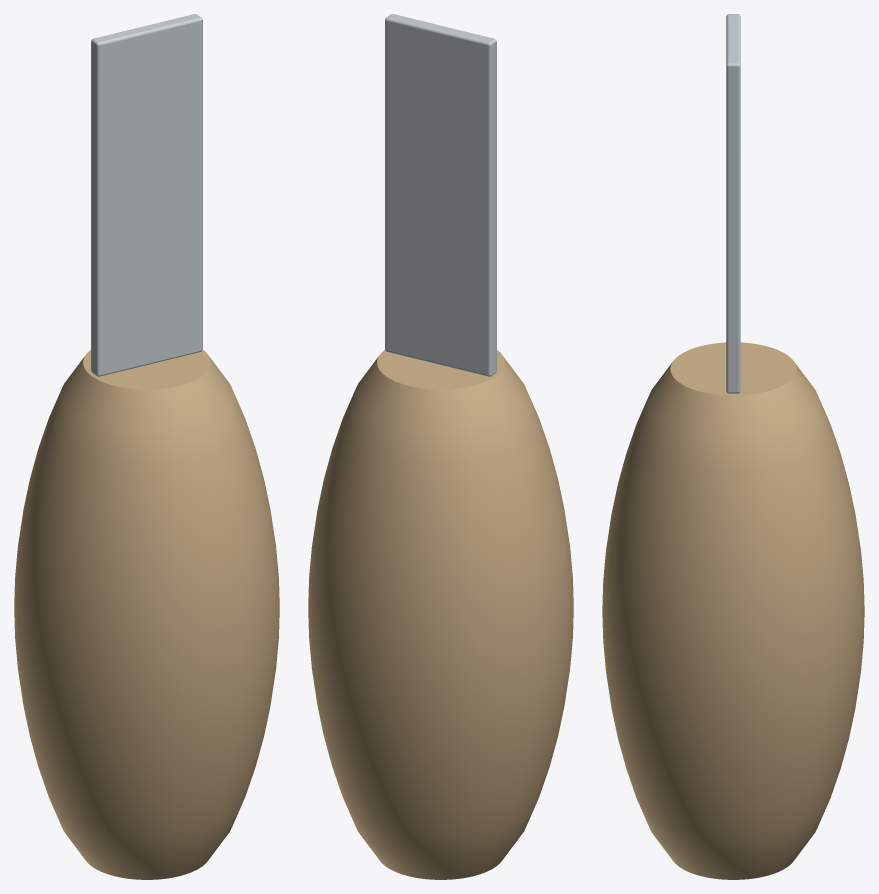
Rendered from bookbinding-and-paper-mill-cutting-knife-a4da5414__30571.glb.
The picture shows the model from 3 angles, left to right: view 1: azimuth 30°, elevation 25°; view 2: azimuth 150°, elevation 25°; view 3: azimuth 270°, elevation 25°; orthographic projection.
Parts seen in each view (by area): view 1: cutting-knife; view 2: cutting-knife; view 3: cutting-knife.
Boxes of the visible parts, x1,y1,x2,y2 form: cutting-knife: (14,14,279,879); cutting-knife: (308,14,573,879); cutting-knife: (602,14,864,879).
Bounding box in the file's own units: 0.054 × 0.185 × 0.054.
